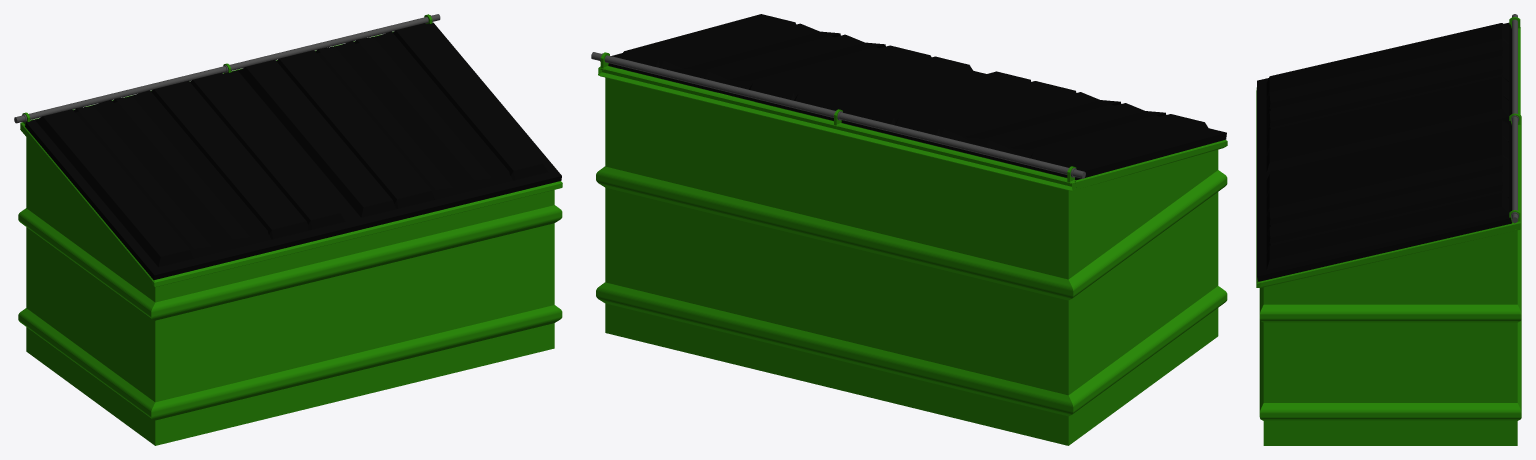
The model's file is rubbishbinb.fbx.
3 views of the same model, side by side, from view 1: azimuth 30°, elevation 25°; view 2: azimuth 150°, elevation 25°; view 3: azimuth 270°, elevation 25° (orthographic). The views are drawn at different scales.
Visible parts, largest first — view 1: body; view 2: body; view 3: body.
Boxes of the visible parts, bbox=[...] form: body: bbox=[14, 14, 562, 445]; body: bbox=[591, 14, 1227, 445]; body: bbox=[1256, 14, 1521, 445].
Size of the model in its own units: 876 by 474 by 482.
